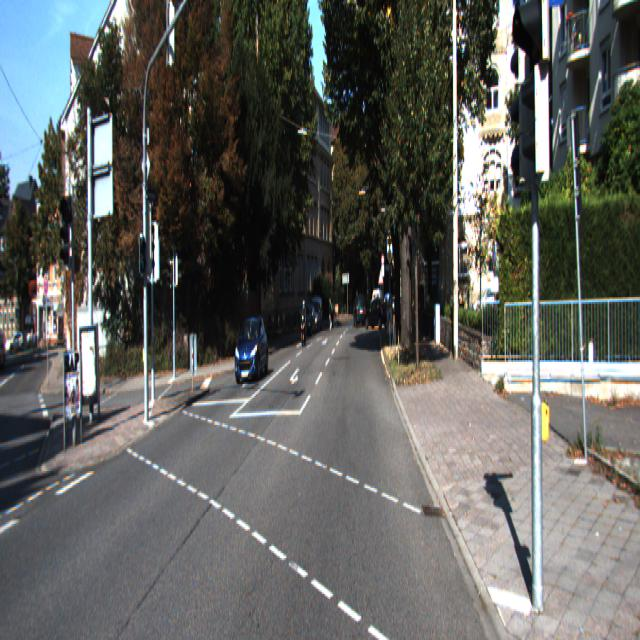Car: (234, 312, 269, 386), (300, 304, 316, 338), (300, 298, 309, 346)
